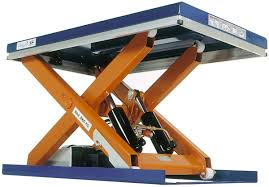Scissor Lift: (1, 1, 269, 185)
